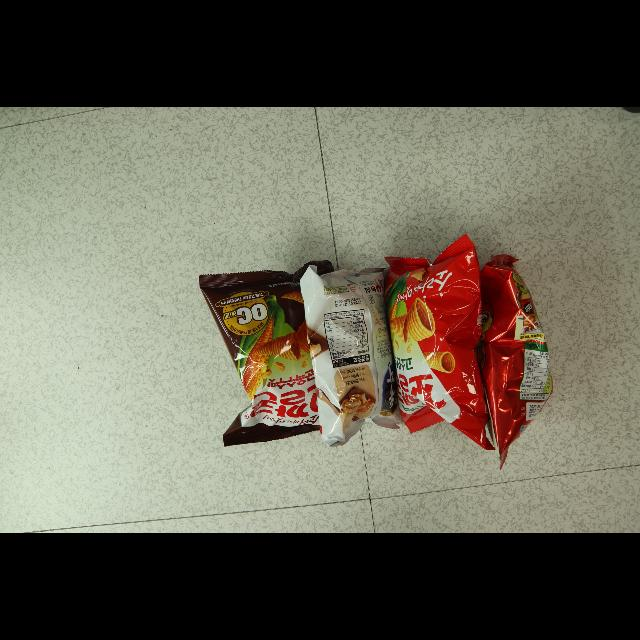bongji: (199, 262, 356, 446), (385, 234, 495, 451), (301, 266, 397, 448), (477, 254, 554, 469)
